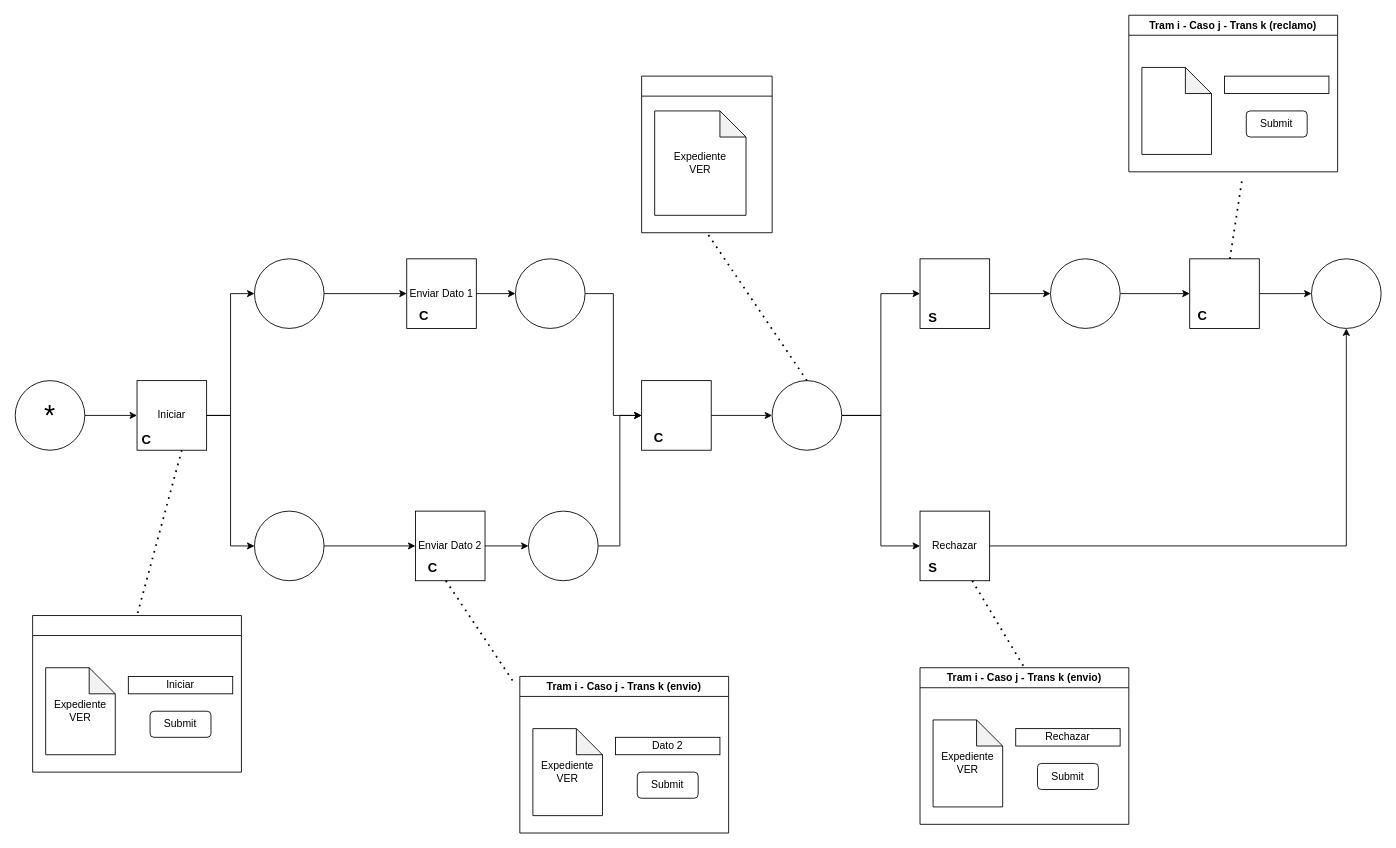
Some shapes in this 1396 by 848 pixel diagram are drawn without their labels. The box of each missing label's shape, as (x1, y1, x2, y2) in pixels:
Aceptar: (919, 258, 990, 328)
Enviar Dato 3: (641, 380, 711, 450)
Expediente VER DESCARGA: (1141, 67, 1211, 154)
FIN: (1311, 258, 1381, 328)
Reclamado: (1224, 75, 1329, 94)
Reclamar: (1189, 258, 1259, 328)
Tram i - Caso j - Plaza k: (641, 75, 772, 233)
Tram i - Caso j - Trans k (trigger): (32, 615, 241, 772)
